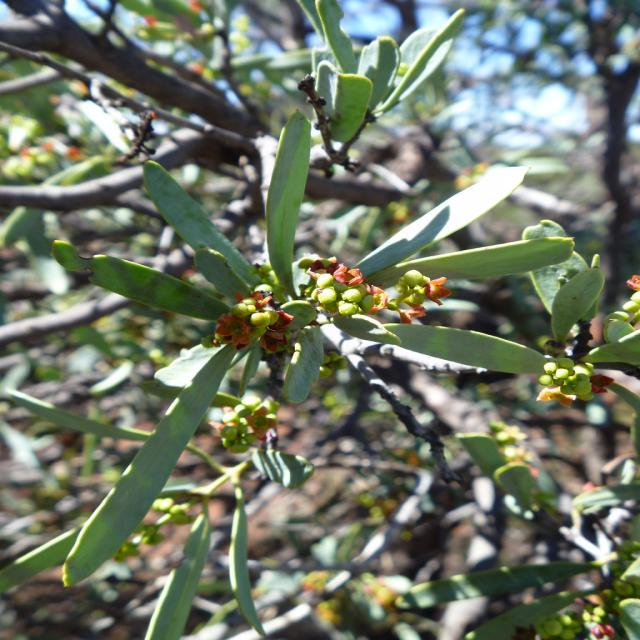Medicinal-Sandalwood: (11, 0, 640, 640)
